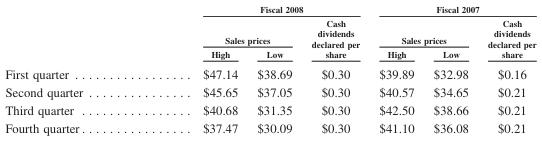table: (4, 3, 535, 134)
table column: (4, 3, 143, 134), (143, 3, 246, 134), (301, 3, 368, 134), (477, 3, 535, 134), (246, 3, 301, 134), (368, 3, 423, 134), (423, 3, 477, 134)
table column header: (4, 3, 535, 62)
table row: (4, 15, 535, 46), (4, 62, 535, 83), (4, 100, 535, 118), (4, 83, 535, 100), (4, 46, 535, 62), (4, 118, 535, 134), (4, 3, 535, 15)
table spanning cell: (143, 15, 301, 46), (368, 15, 477, 46), (301, 15, 368, 62), (477, 15, 535, 62), (143, 3, 368, 15), (368, 3, 535, 15)
